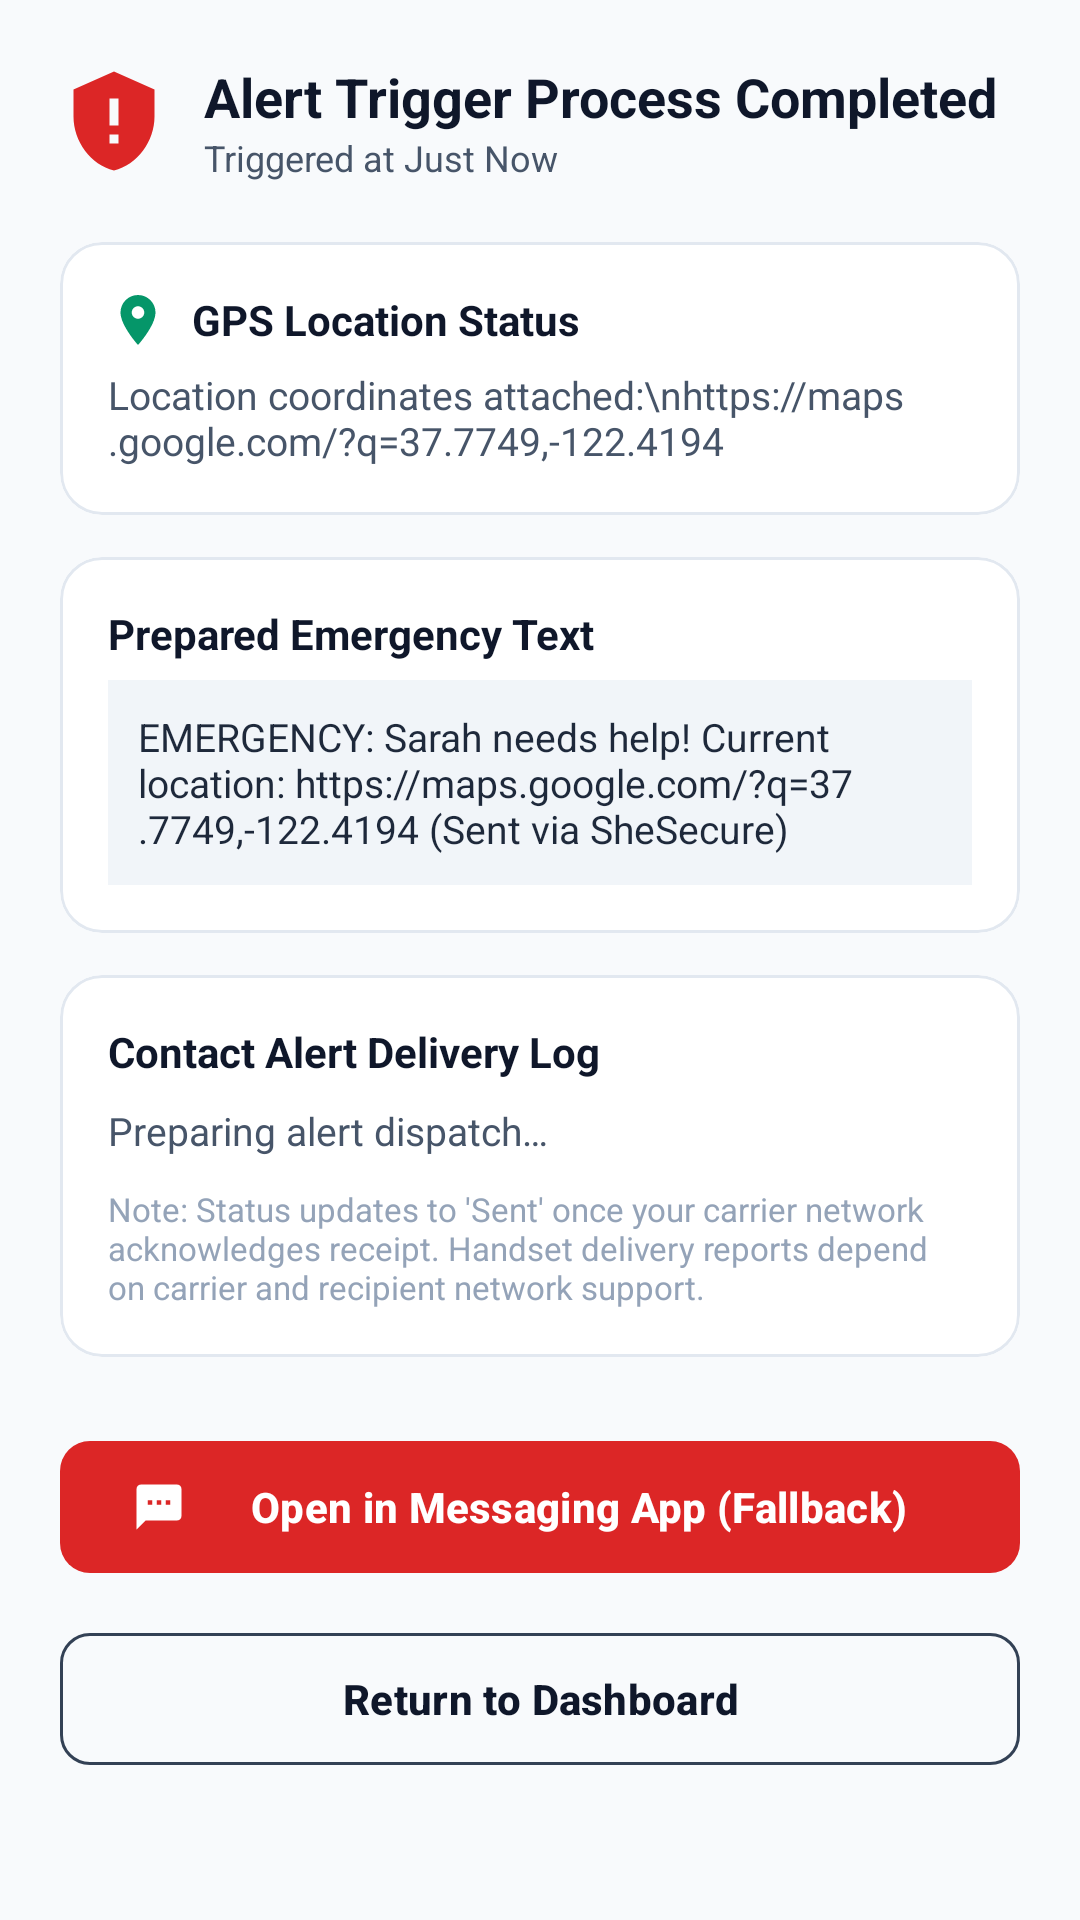

Point at icon controls on the screen. Image size 1080*1920, points as point (x, y).
Emergency: point (114, 121)
